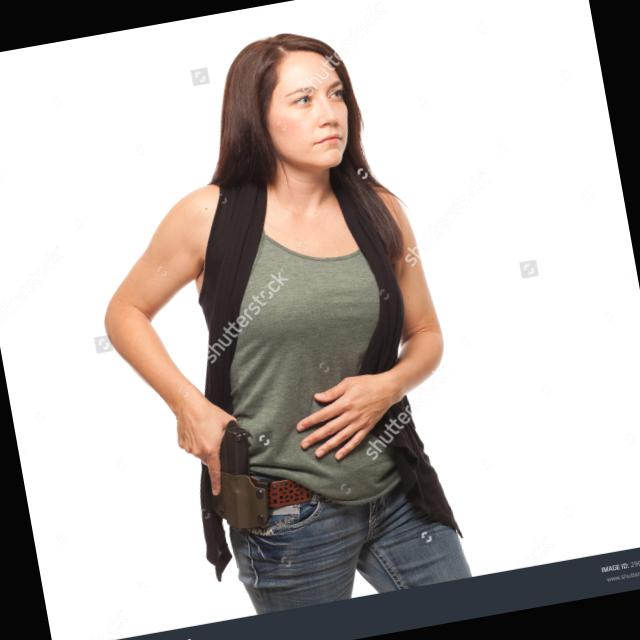handgun: (188, 414, 268, 536)
